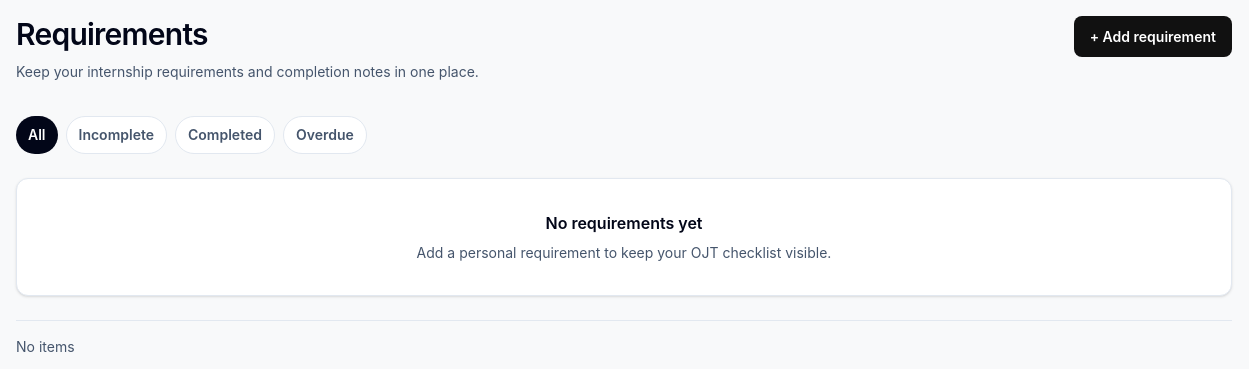
Test: student RequirementsView › shows a no-match state for a filter with no requirements
Step 1. Click the button with test id "filter-overdue" → (325, 135), box [283,116,367,154]
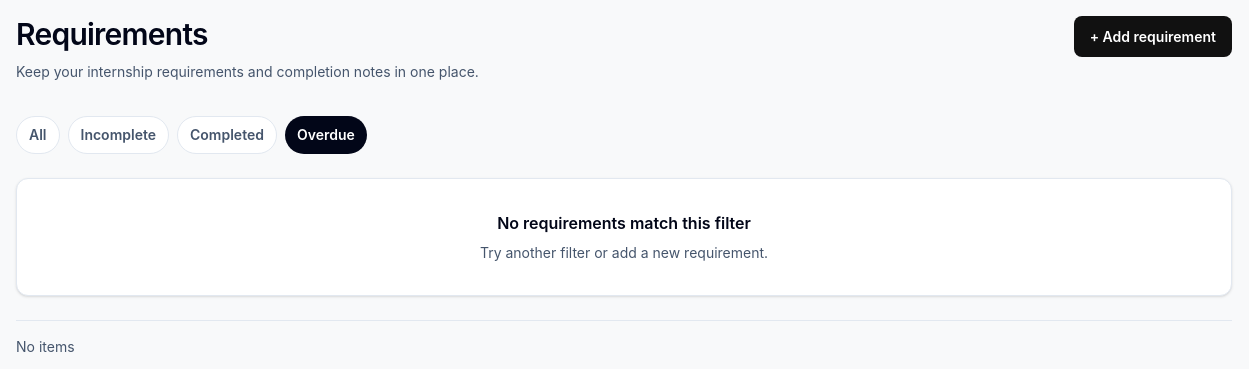
Check: the element with test id "requirements-filter-empty" shows "No requirements match this filter", box [497,213,751,233]
